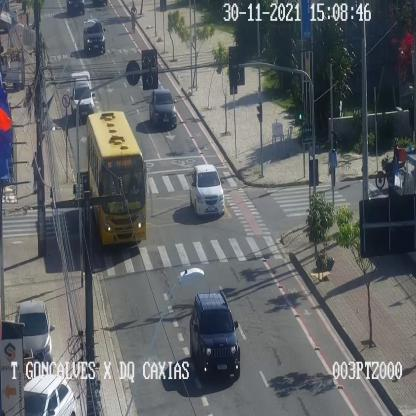bicycle: (130, 3, 138, 33)
bus: (86, 111, 146, 245)
car: (189, 292, 240, 378), (16, 301, 52, 373), (23, 374, 76, 415), (189, 164, 224, 214), (70, 70, 94, 118), (149, 89, 176, 127), (83, 18, 105, 52)
motorbike: (375, 137, 405, 188)
person: (328, 145, 337, 189), (25, 85, 33, 124), (31, 150, 38, 193)
